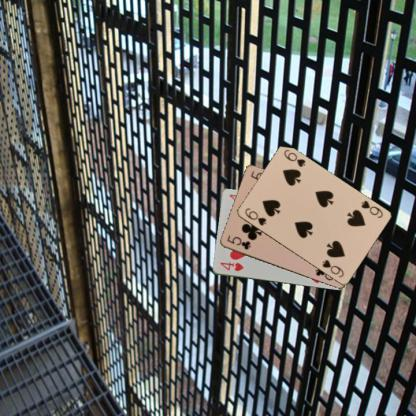4h: (217, 259, 245, 273)
5c: (224, 233, 252, 251)
6s: (242, 205, 268, 227), (358, 198, 384, 220)
